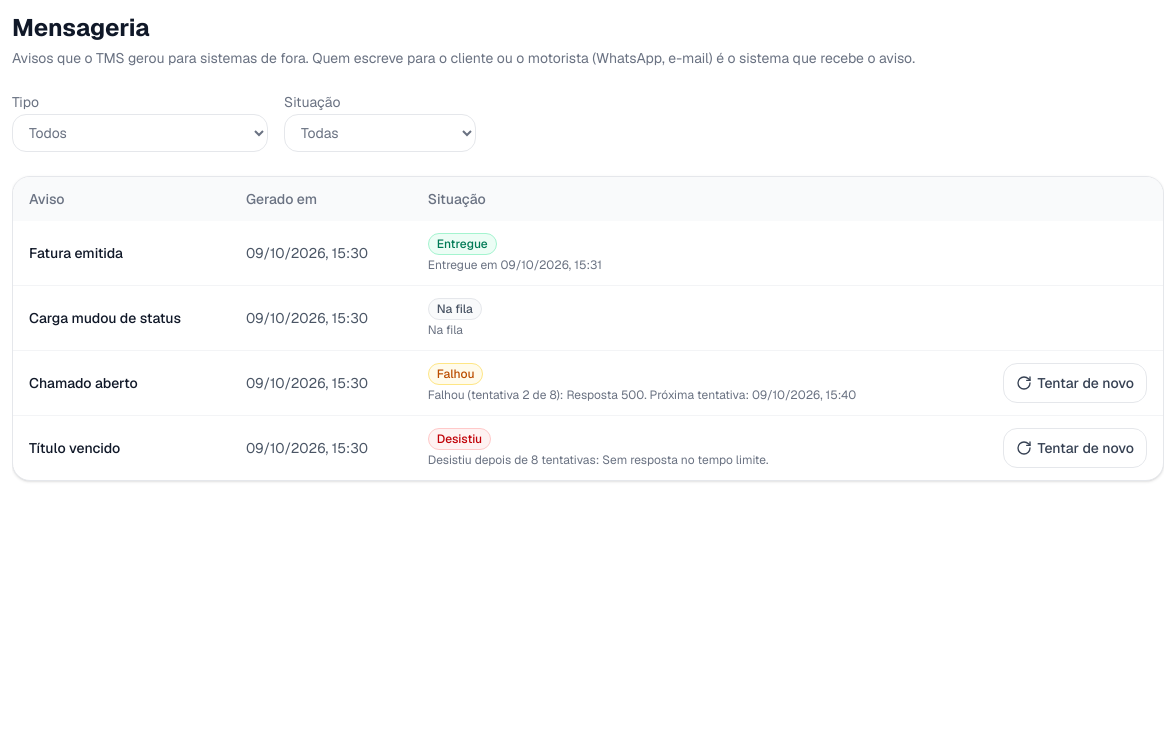
Test: tela de mensageria › recusa do servidor ao tentar de novo aparece como alerta, e a linha fica como estava
Step 1. Click the button "Tentar de novo" in the row of "Título vencido" → (1075, 448), box [1003,428,1147,468]
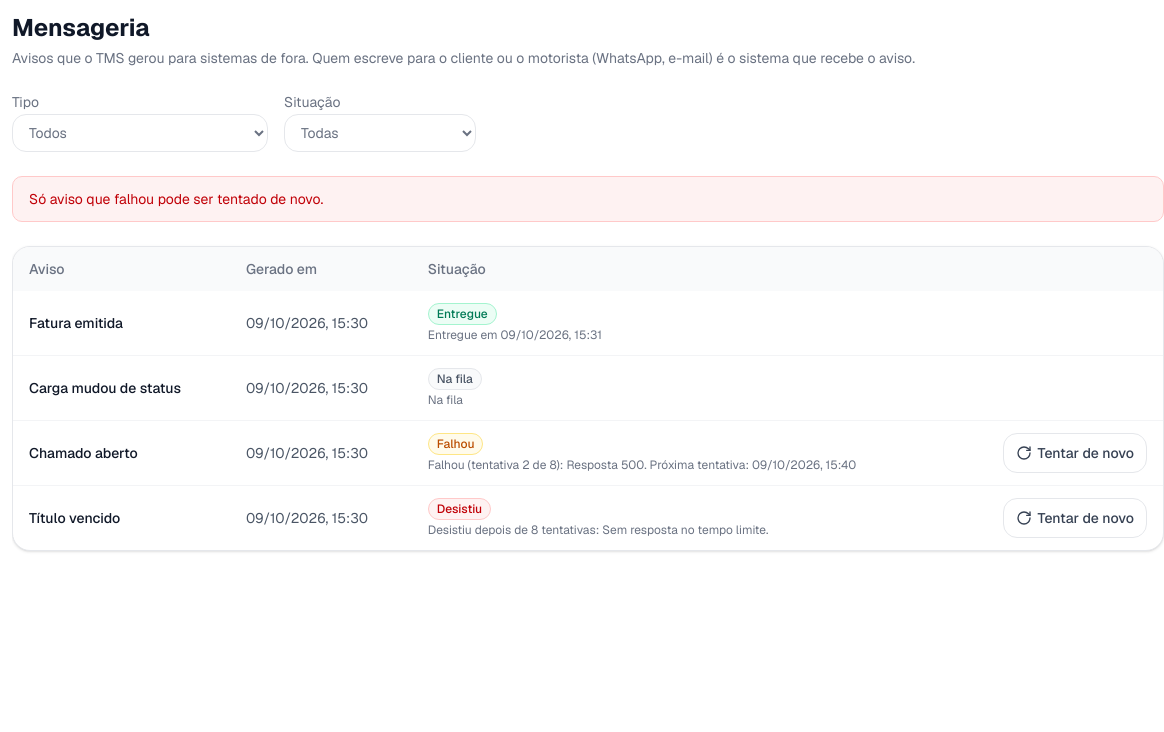
Check: the message "Só aviso que falhou pode ser tentado de novo." is shown, box [12,176,1163,222]
